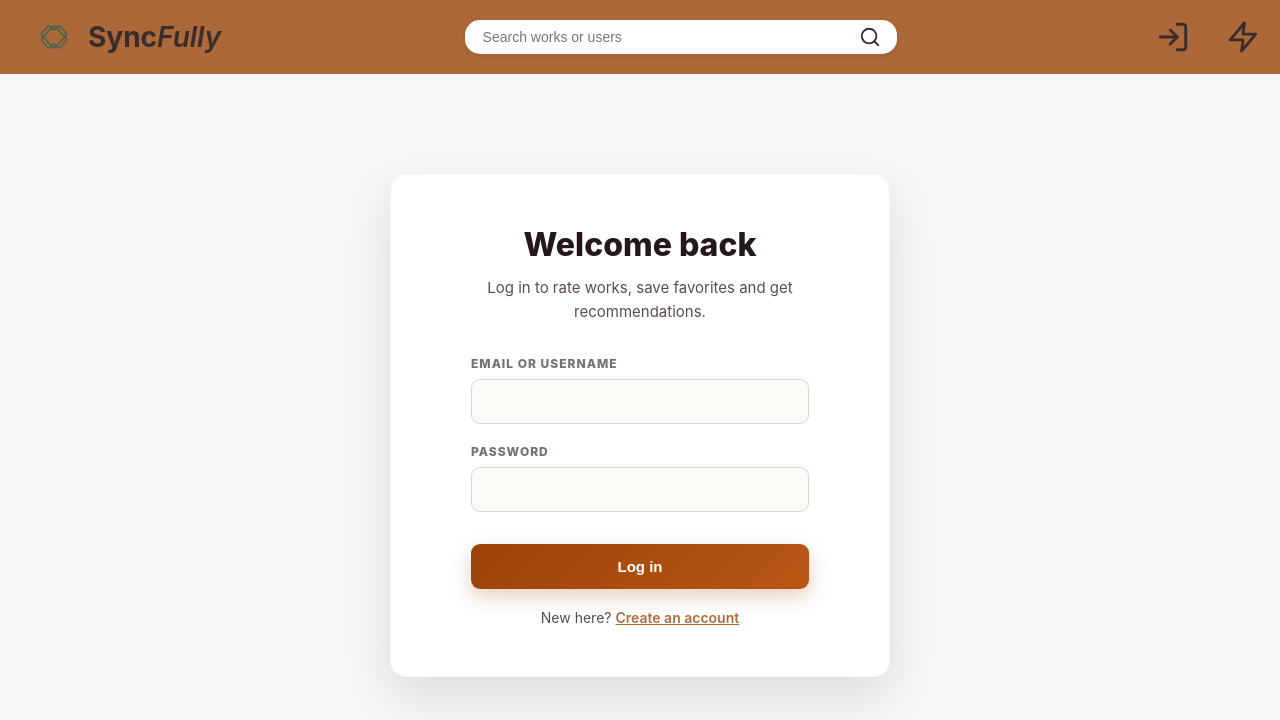
Test: User authentication flow › Fails login with invalid credentials
The width and height of the screenshot is (1280, 720).
Type "testuser" into the field labelled "Email or Username" at (640, 402), box [471,379,809,424]
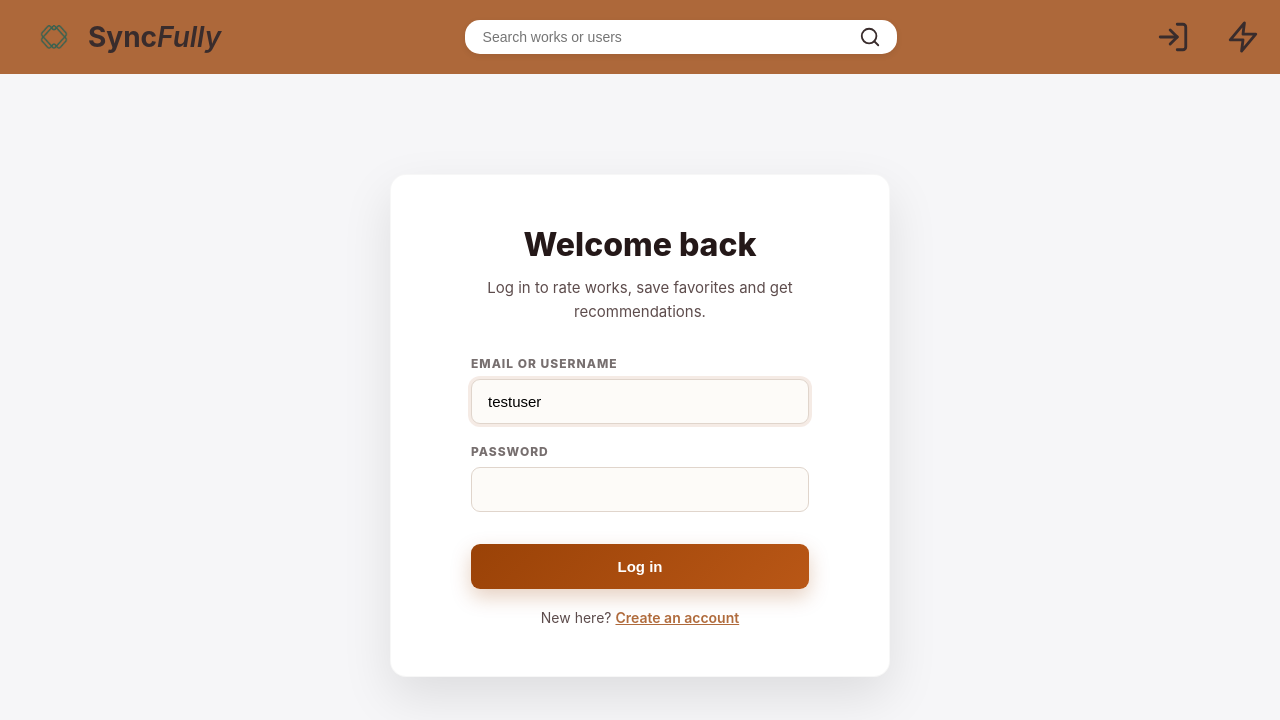
Type "WrongPassword123" into the password field labelled "Password" at (640, 490), box [471,467,809,512]
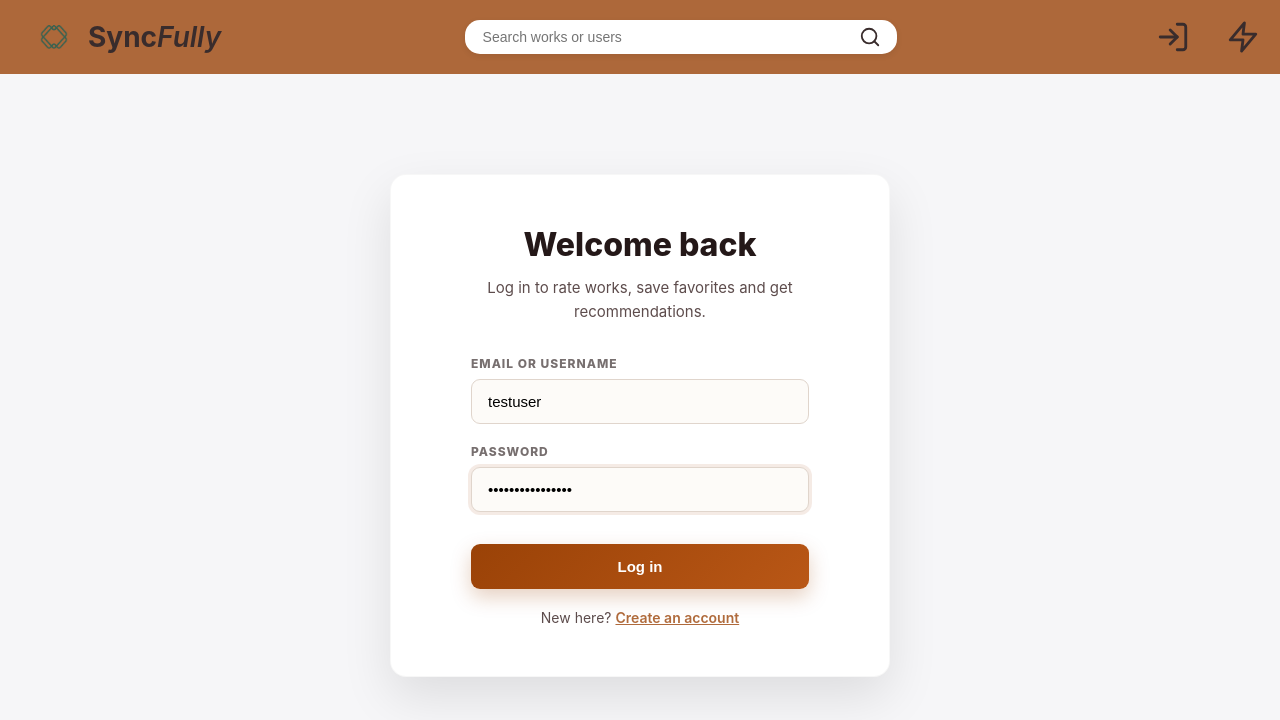
Click the submit button at (640, 567), box [471,544,809,589]
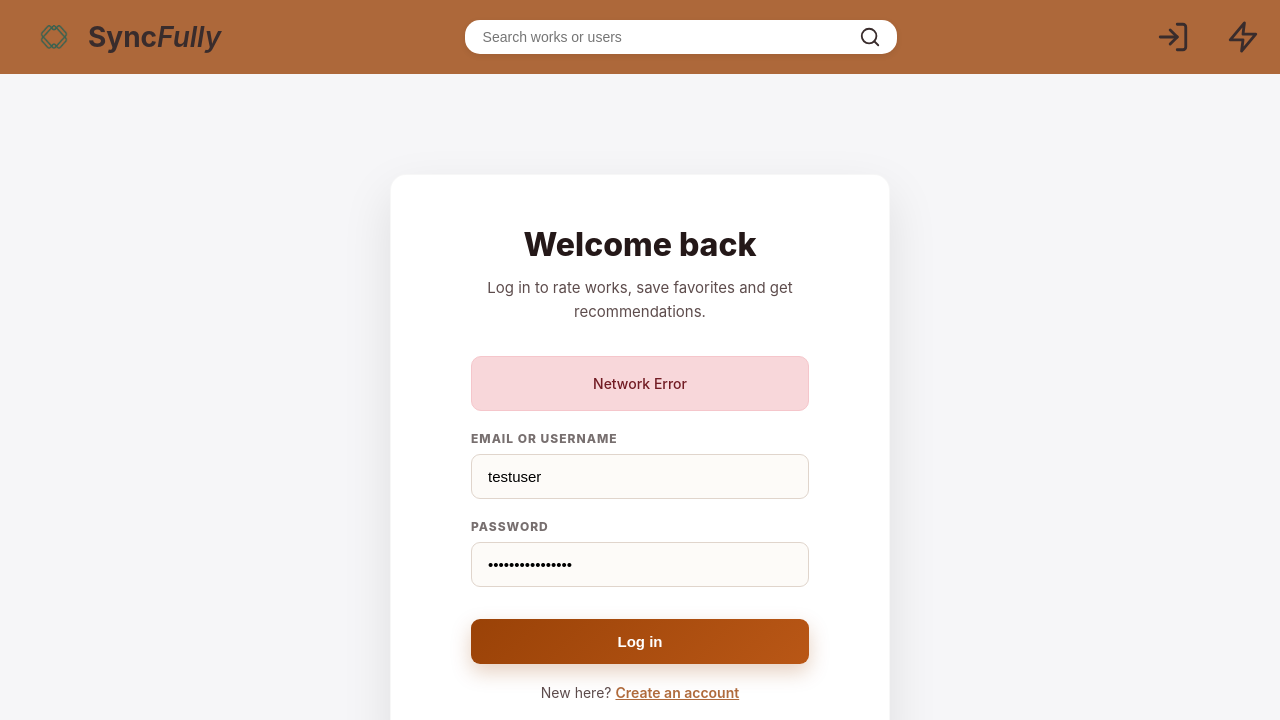
Expected: the message "Network Error" is shown, [471,356,809,411]
